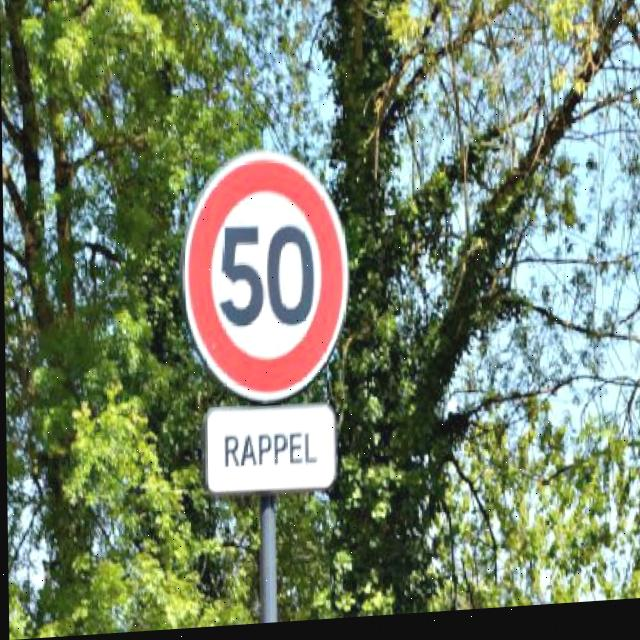Speed limit 50: (177, 148, 352, 412)
